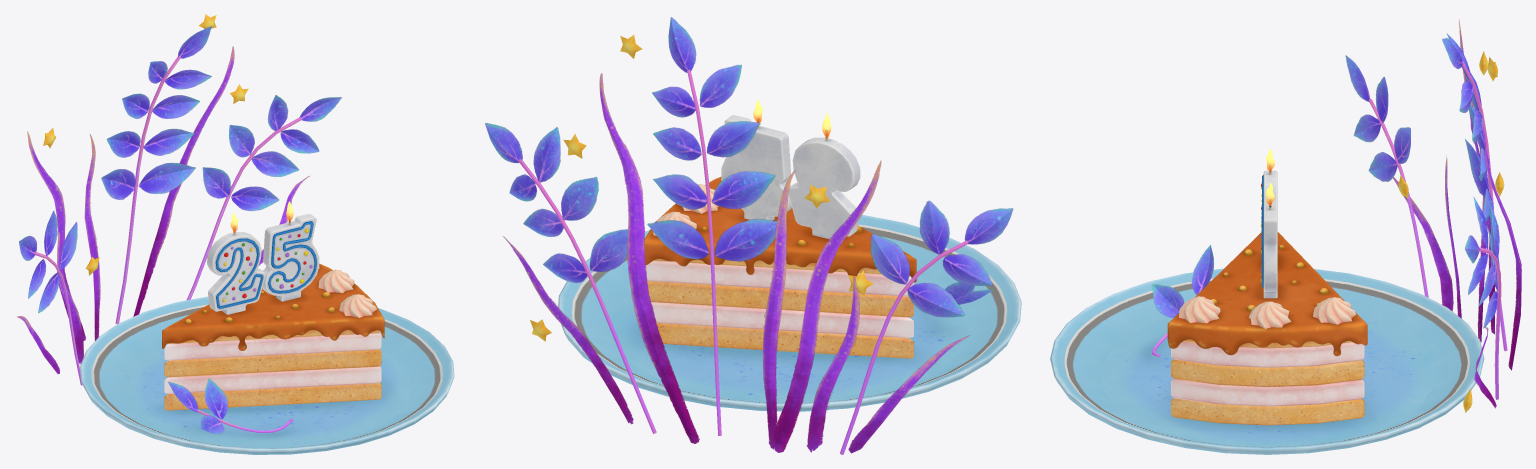
File: birthdaycake.gltf
3 views of the same model, side by side, from view 1: azimuth 30°, elevation 25°; view 2: azimuth 150°, elevation 25°; view 3: azimuth 270°, elevation 25° (orthographic). The views are drawn at different scales.
Visible parts, largest first — view 1: plate, Cylinder.005, Cylinder, Cylinder.003, Plane, 2_Candles_0, Plane.026, Plane.027, Plane.031, BezierCurve.003, Plane.024, BezierCircle.001 (+22 smaller); view 2: plate, Cylinder, Cylinder.003, Cylinder.005, Plane.026, 2_Candles_0, Plane.024, Plane, Plane.027, Plane.025, Plane.030, Plane.028 (+24 smaller); view 3: plate, Cylinder.005, Cylinder, Cylinder.003, Plane, Plane.026, Plane.029, Cylinder.016, Cylinder.007, Cylinder.004, Plane.015, BezierCurve (+9 smaller).
Part boxes in pixels (left/top/right/bottom): plate: left=80, top=296, right=454, bottom=454; Cylinder.005: left=162, top=263, right=384, bottom=350; Cylinder: left=164, top=330, right=381, bottom=410; Cylinder.003: left=164, top=332, right=381, bottom=393; Plane: left=262, top=214, right=319, bottom=301; 2_Candles_0: left=207, top=231, right=265, bottom=314; Plane.026: left=133, top=46, right=234, bottom=316; Plane.027: left=84, top=134, right=100, bottom=340; Plane.031: left=138, top=163, right=195, bottom=193; BezierCurve.003: left=115, top=55, right=180, bottom=324; Plane.024: left=27, top=131, right=85, bottom=341; BezierCircle.001: left=268, top=221, right=316, bottom=293; plate: left=558, top=214, right=1021, bottom=411; Cylinder: left=647, top=258, right=913, bottom=358; Cylinder.003: left=645, top=260, right=913, bottom=338; Cylinder.005: left=644, top=177, right=916, bottom=282; Plane.026: left=599, top=73, right=699, bottom=443; 2_Candles_0: left=788, top=137, right=860, bottom=239; Plane.024: left=770, top=161, right=881, bottom=452; Plane: left=721, top=115, right=791, bottom=220; Plane.027: left=763, top=170, right=795, bottom=444; Plane.025: left=806, top=276, right=859, bottom=452; Plane.030: left=714, top=219, right=776, bottom=261; Plane.028: left=503, top=236, right=633, bottom=424; plate: left=1050, top=268, right=1484, bottom=454; Cylinder.005: left=1167, top=232, right=1367, bottom=356; Cylinder: left=1171, top=339, right=1364, bottom=425; Cylinder.003: left=1171, top=341, right=1364, bottom=406; Plane: left=1263, top=199, right=1277, bottom=298; Plane.026: left=1482, top=111, right=1521, bottom=370; Plane.029: left=1393, top=177, right=1453, bottom=311; Cylinder.016: left=1313, top=297, right=1356, bottom=324; Cylinder.007: left=1248, top=301, right=1291, bottom=328; Cylinder.004: left=1179, top=296, right=1220, bottom=323; Plane.015: left=1152, top=284, right=1184, bottom=317; BezierCurve: left=1368, top=98, right=1428, bottom=297.
Size of the model in its own units: 5.75 by 4.72 by 5.37.
Materials: 4 (4 with a texture image).
